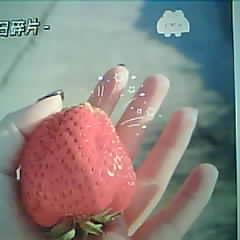straw-ripe: (18, 104, 135, 223)
